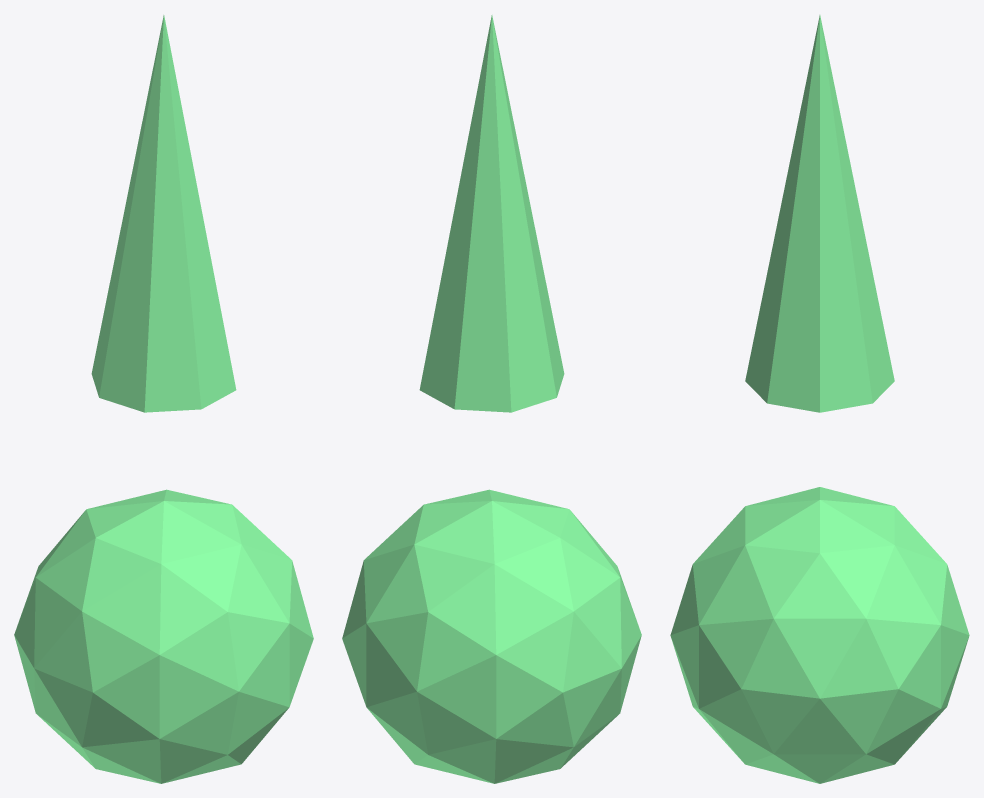
The model's file is meteor_chunk_projectile.glb.
3 views of the same model, side by side, from view 1: azimuth 30°, elevation 25°; view 2: azimuth 150°, elevation 25°; view 3: azimuth 270°, elevation 25° (orthographic).
Parts seen in each view (by area): view 1: projectile_core, trail; view 2: projectile_core, trail; view 3: projectile_core, trail.
Boxes of the visible parts, x1,y1,x2,y2 form: projectile_core: (14, 489, 313, 783); trail: (91, 15, 236, 412); projectile_core: (342, 489, 641, 783); trail: (419, 15, 564, 412); projectile_core: (670, 487, 969, 783); trail: (745, 15, 894, 412).
Size of the model in its own units: 0.48 by 1.34 by 0.48.
